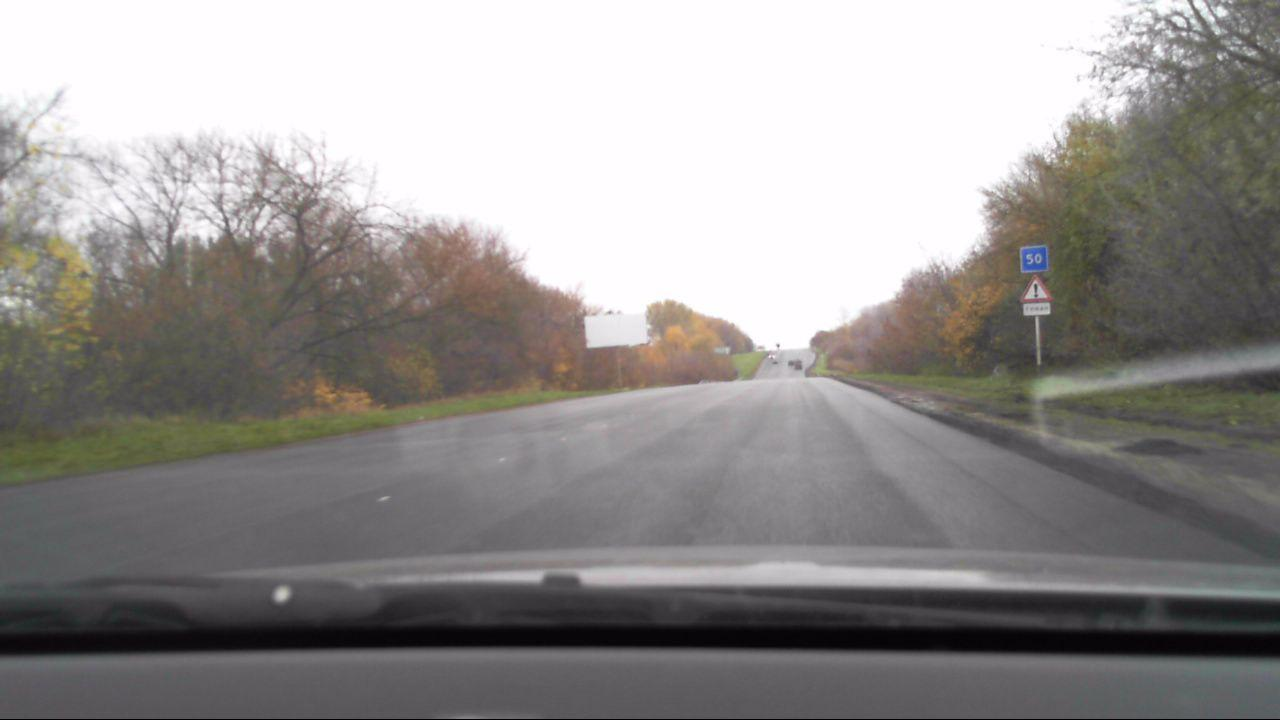1_33: (1022, 276, 1049, 300)
6_2: (1019, 246, 1048, 271)
8_16: (1021, 303, 1052, 317)
